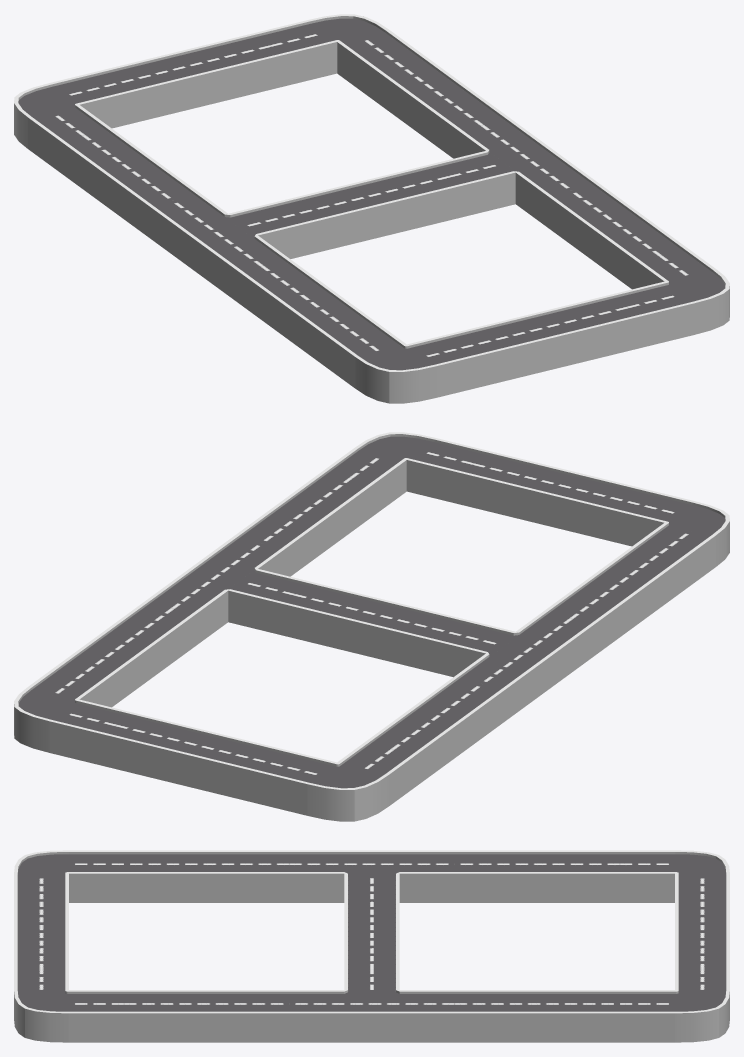
The model's file is level2_road.fbx.
3 views of the same model, one above another, from view 1: azimuth 30°, elevation 25°; view 2: azimuth 150°, elevation 25°; view 3: azimuth 270°, elevation 25° (orthographic). The views are drawn at different scales.
Parts seen in each view (by area): view 1: level2_road; view 2: level2_road; view 3: level2_road.
Boxes of the visible parts, <box> form: level2_road: <box>14,14,729,403</box>; level2_road: <box>14,432,729,821</box>; level2_road: <box>14,850,729,1042</box>.
Size of the model in its own units: 7 by 0.5872 by 13.
